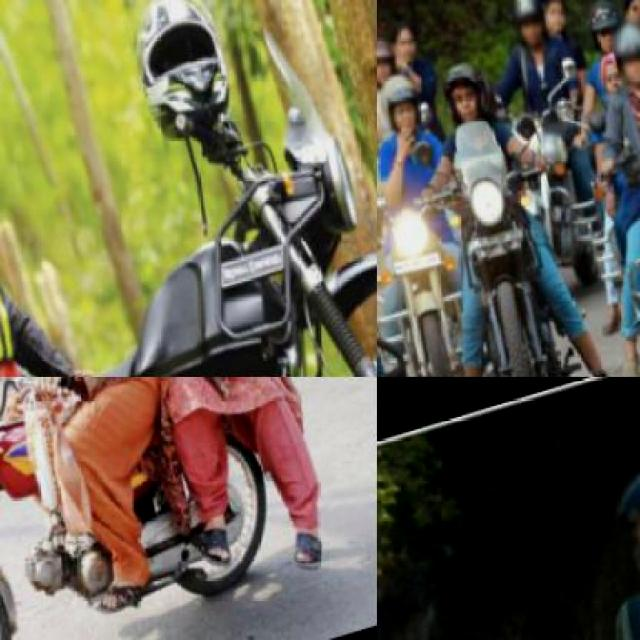With Helmet: (431, 51, 500, 137), (598, 456, 638, 590), (377, 63, 432, 149), (492, 0, 563, 63), (576, 0, 632, 58), (606, 11, 639, 100), (377, 31, 405, 92), (535, 0, 574, 34)
Without Helmet: (388, 17, 427, 68), (618, 0, 638, 45)
